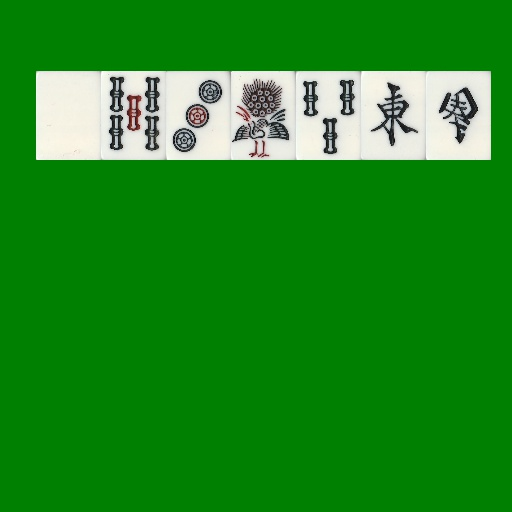1s: (231, 71, 296, 160)
3p: (166, 71, 231, 160)
3s: (296, 71, 361, 160)
5s: (101, 71, 166, 160)
east: (361, 71, 426, 160)
south: (426, 71, 491, 160)
white: (36, 71, 101, 160)
